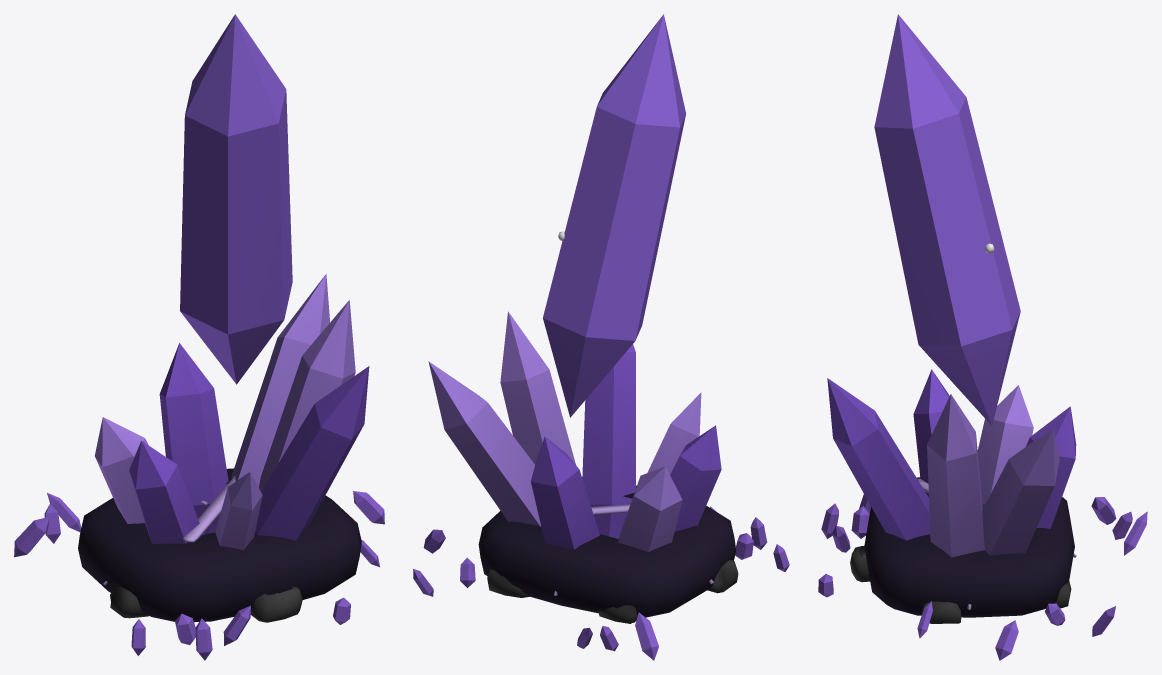
The model's file is shard.glb.
The picture shows the model from 3 angles, left to right: view 1: azimuth 30°, elevation 25°; view 2: azimuth 150°, elevation 25°; view 3: azimuth 270°, elevation 25°; orthographic projection. The views are drawn at different scales.
Visible parts, largest first — view 1: shard; view 2: shard; view 3: shard.
Part boxes in pixels (bbox=[...]): shard: bbox=[14, 14, 384, 660]; shard: bbox=[413, 14, 789, 660]; shard: bbox=[818, 14, 1147, 660].
Size of the model in its own units: 1.98 by 3.53 by 1.88.
